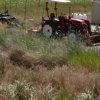Tractor: (36, 6, 100, 57)
